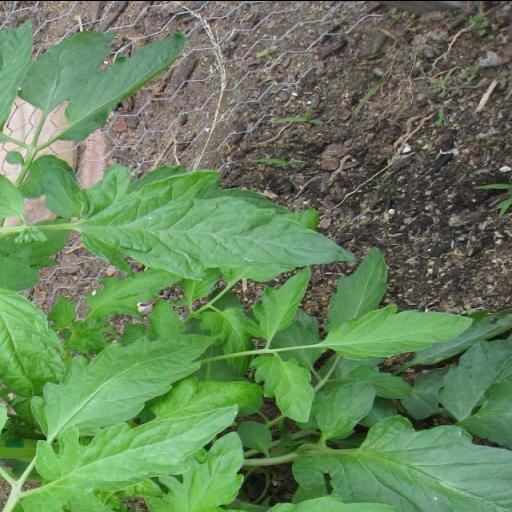Healthy: (81, 170, 355, 278), (18, 401, 240, 512), (292, 410, 512, 512), (18, 326, 218, 438), (60, 29, 192, 145), (136, 428, 246, 512), (16, 28, 116, 110), (326, 302, 470, 358), (238, 264, 312, 336), (248, 354, 314, 422), (315, 379, 377, 437)
